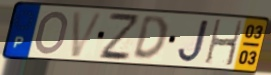D: (131, 14, 169, 62)
H: (203, 18, 245, 68)
J: (175, 18, 212, 64)
O: (32, 9, 70, 56)
V: (69, 10, 107, 58)
Z: (97, 10, 140, 62)
